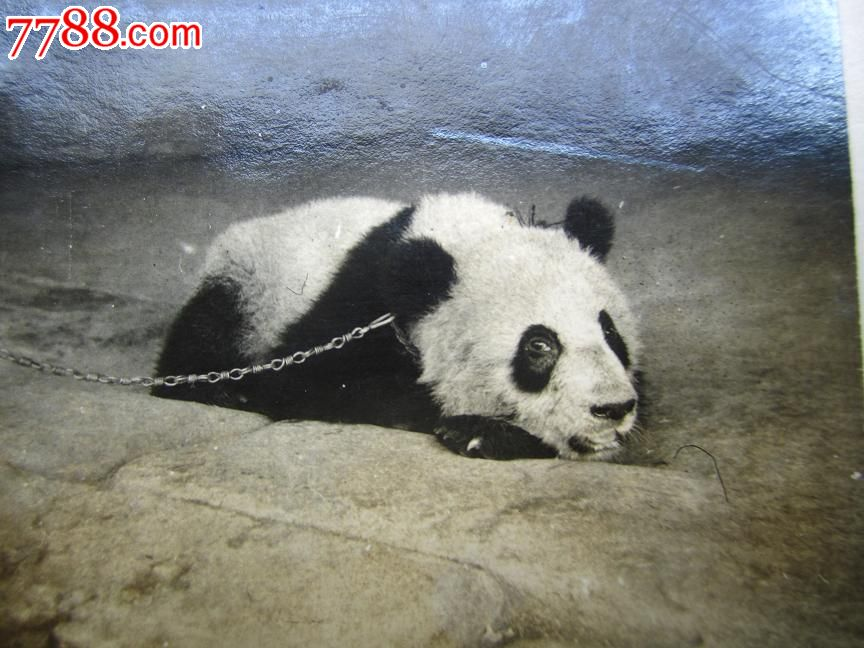panda: (156, 186, 668, 476)
